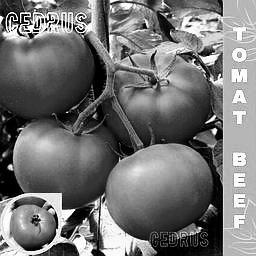bukan telur: (108, 145, 214, 240), (14, 117, 115, 204), (104, 63, 211, 141), (1, 28, 94, 113)
